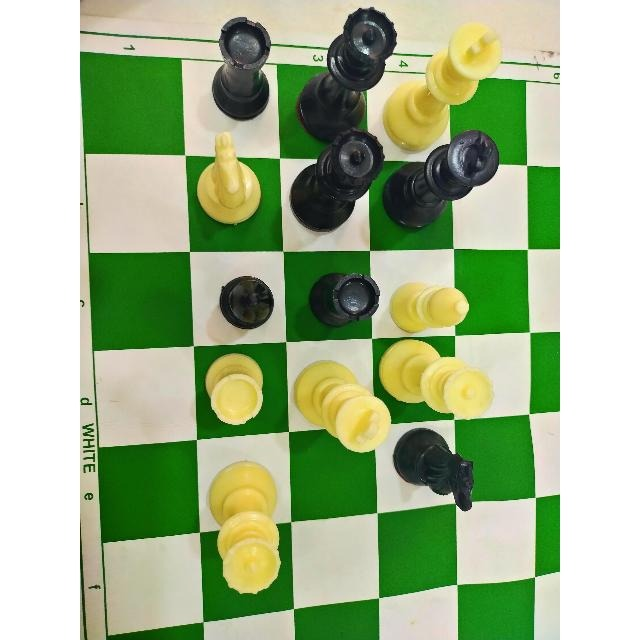black-bishop: (208, 274, 276, 337)
black-king: (384, 127, 499, 244)
black-knight: (393, 427, 479, 517)
black-queen: (297, 4, 399, 141), (294, 129, 385, 246)
black-rook: (198, 15, 270, 121), (306, 266, 382, 334)
white-bishop: (388, 273, 479, 339)
white-king: (388, 14, 505, 153), (288, 357, 392, 457)
white-knight: (193, 130, 265, 226)
white-queen: (205, 459, 291, 596), (375, 337, 496, 423)
white-rook: (200, 351, 267, 428)
